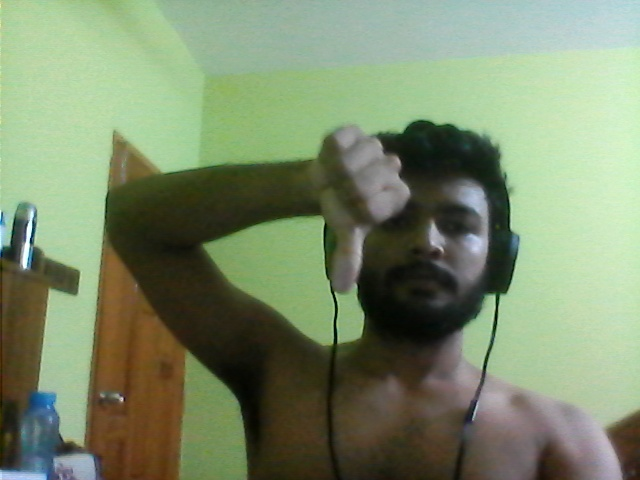No: (313, 123, 405, 298)
